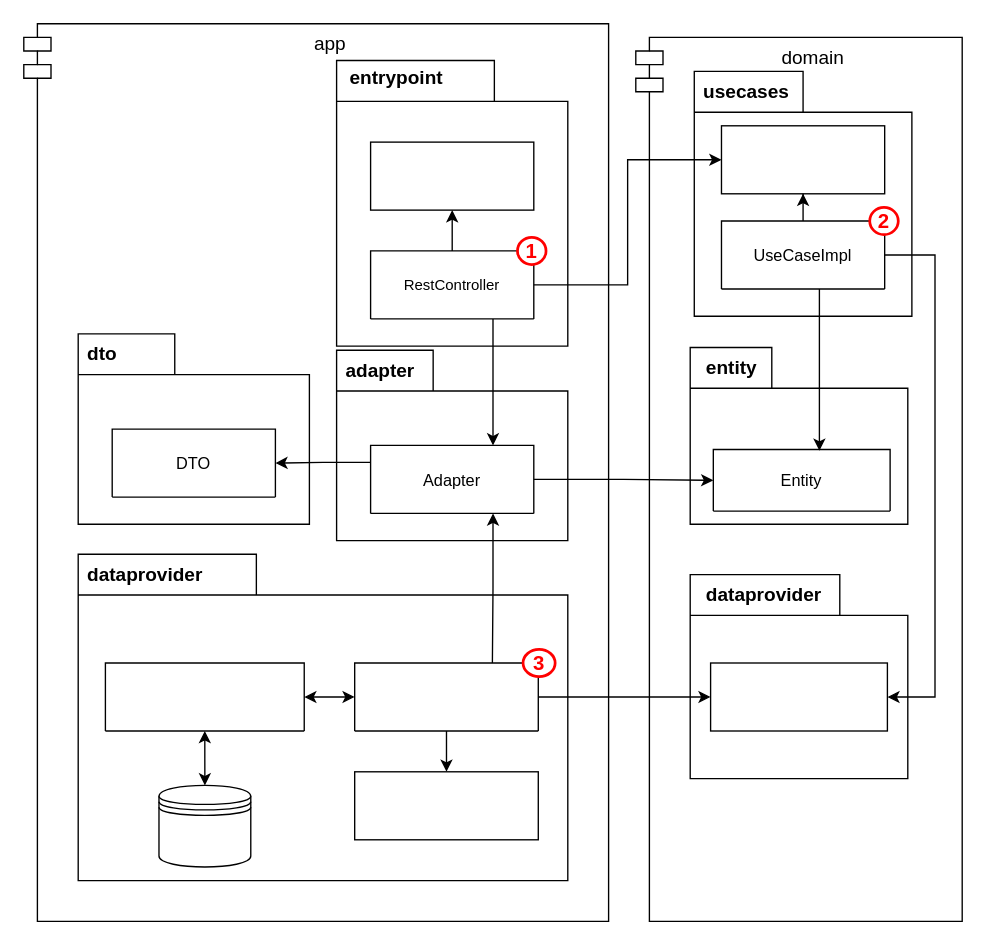
Some shapes in this 986 by 945 pixel diagram are drawn without their labels. The shapes that lost their labels are listed below. From the top down, each one's centre as x and y in pixels, then its label:
(451,175): «interface» Controller
(802,159): «interface» UseCase
(204,696): PO (PersistentObject)
(445,696): @javax.inject.Named DataService
(798,696): «interface» DataProvider
(445,805): «interface» Repository
